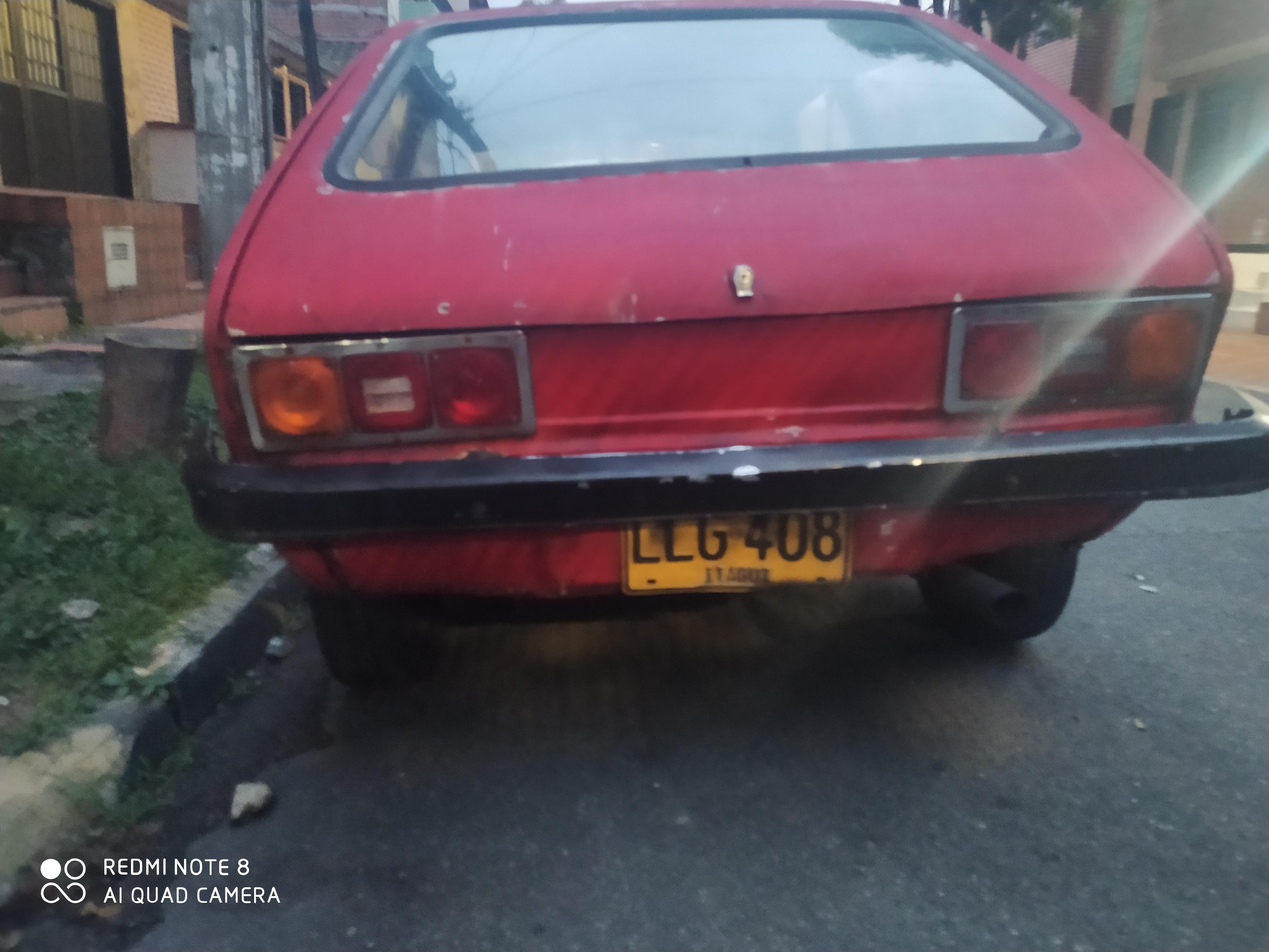placa: (609, 494, 854, 595)
